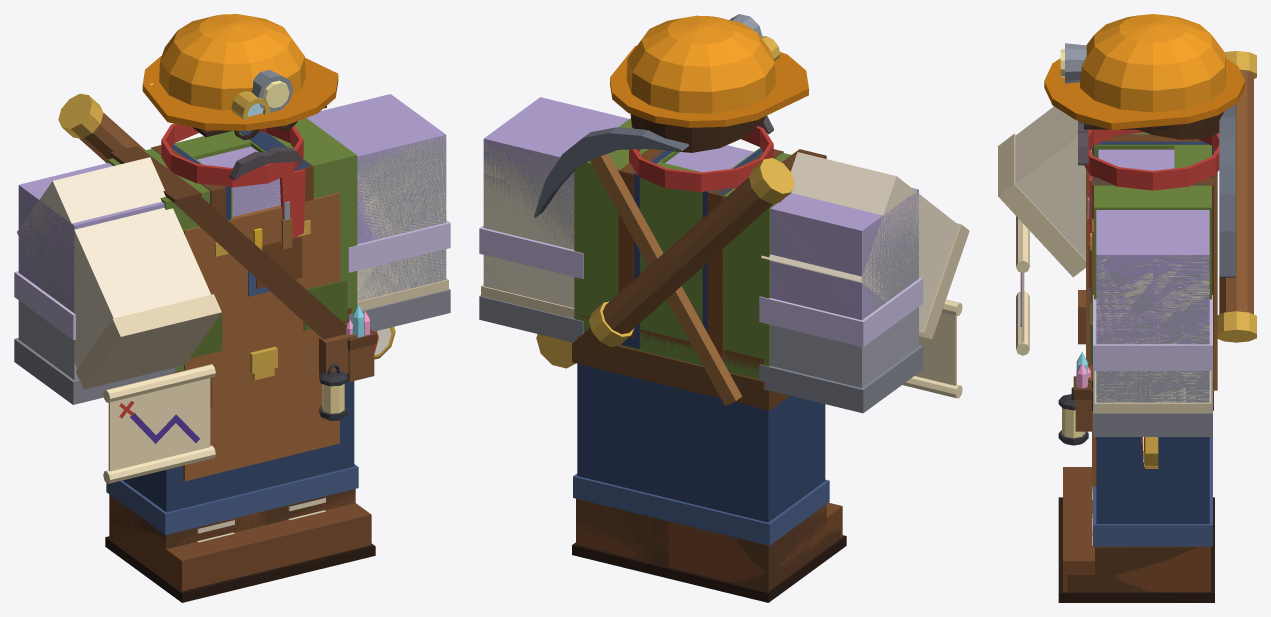
Rendered from w3_keepers.fbx.
The picture shows the model from 3 angles, left to right: view 1: azimuth 30°, elevation 25°; view 2: azimuth 150°, elevation 25°; view 3: azimuth 270°, elevation 25°; orthographic projection.
Parts seen in each view (by area): view 1: GemcutterGear.Apron, PipGear.SleeveR, MinerGear.Boots, MinerGear.Hat, MinerGear.SleeveL, PipGear.Map, PipGear.CuffR, PipGear.Vest, MinerGear.Trousers, GemcutterGear.SleeveL, PipGear.SleeveL, PipGear.Belt (+30 smaller); view 2: MinerGear.Trousers, PipGear.Vest, MinerGear.SleeveR, GemcutterGear.SleeveR, MinerGear.Hat, PipGear.SleeveR, PipGear.SleeveL, MinerGear.Boots, PipGear.Tube, PipGear.Boots, GemcutterGear.SleeveL, MinerGear.TrouserCuffs (+22 smaller); view 3: GemcutterGear.SleeveL, MinerGear.Hat, MinerGear.SleeveL, MinerGear.Trousers, PipGear.SleeveR, MinerGear.Boots, PipGear.Tube, MinerGear.Brim, PipGear.Vest, PipGear.SleeveL, PipGear.Scarf, GemcutterGear.RolledL (+23 smaller).
Part boxes in pixels (bbox=[...]): GemcutterGear.Apron: bbox=[183, 192, 339, 481]; PipGear.SleeveR: bbox=[17, 157, 210, 368]; MinerGear.Boots: bbox=[109, 490, 371, 591]; MinerGear.Hat: bbox=[159, 14, 305, 110]; MinerGear.SleeveL: bbox=[357, 135, 446, 300]; PipGear.Map: bbox=[103, 364, 215, 483]; PipGear.CuffR: bbox=[76, 294, 221, 389]; PipGear.Vest: bbox=[107, 118, 357, 371]; MinerGear.Trousers: bbox=[123, 381, 354, 512]; GemcutterGear.SleeveL: bbox=[306, 94, 446, 244]; PipGear.SleeveL: bbox=[357, 136, 446, 301]; PipGear.Belt: bbox=[110, 146, 347, 339]; MinerGear.Trousers: bbox=[577, 363, 825, 522]; PipGear.Vest: bbox=[574, 118, 792, 379]; MinerGear.SleeveR: bbox=[770, 190, 918, 387]; GemcutterGear.SleeveR: bbox=[770, 188, 918, 320]; MinerGear.Hat: bbox=[626, 15, 775, 113]; PipGear.SleeveR: bbox=[761, 152, 958, 330]; PipGear.SleeveL: bbox=[483, 142, 574, 307]; MinerGear.Boots: bbox=[576, 499, 842, 583]; PipGear.Tube: bbox=[602, 177, 773, 334]; PipGear.Boots: bbox=[576, 498, 840, 591]; GemcutterGear.SleeveL: bbox=[483, 97, 628, 227]; MinerGear.TrouserCuffs: bbox=[573, 473, 829, 545]; GemcutterGear.SleeveL: bbox=[1096, 210, 1209, 344]; MinerGear.Hat: bbox=[1080, 14, 1225, 112]; MinerGear.SleeveL: bbox=[1096, 255, 1209, 402]; MinerGear.Trousers: bbox=[1096, 437, 1209, 523]; PipGear.SleeveR: bbox=[1015, 106, 1091, 259]; MinerGear.Boots: bbox=[1063, 467, 1210, 592]; PipGear.Tube: bbox=[1219, 70, 1253, 314]; MinerGear.Brim: bbox=[1044, 58, 1244, 130]; PipGear.Vest: bbox=[1094, 132, 1211, 299]; PipGear.SleeveL: bbox=[1096, 255, 1209, 402]; PipGear.Scarf: bbox=[1084, 129, 1219, 243]; GemcutterGear.RolledL: bbox=[1093, 295, 1212, 370].
Size of the model in its own units: 4.15 by 5.46 by 2.42.
